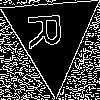R: (27, 10, 71, 50)
